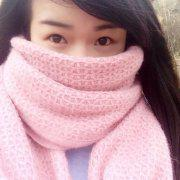OK: (30, 19, 127, 102)
